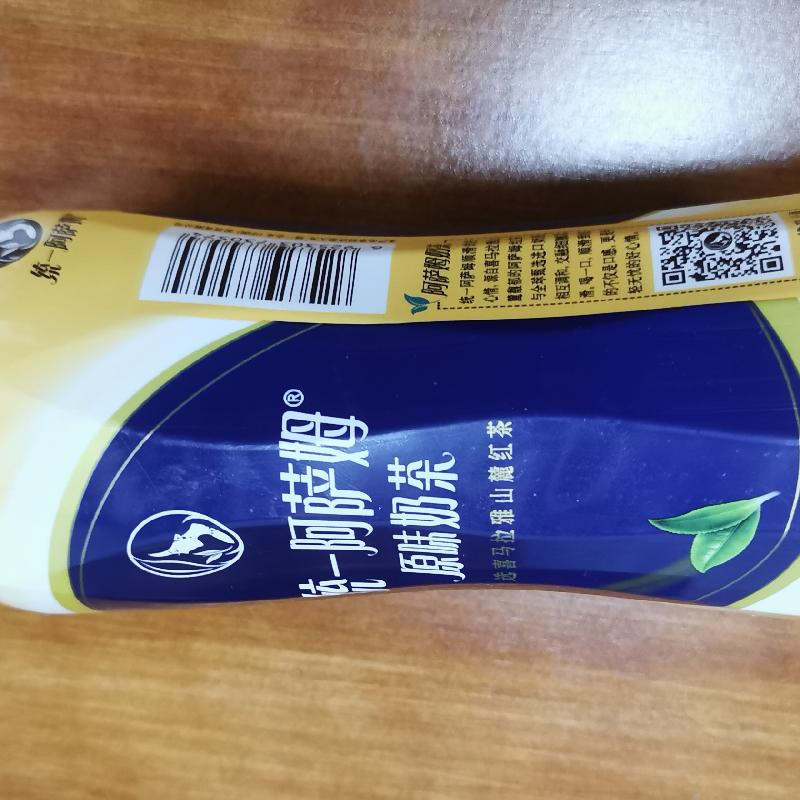bottles: (11, 183, 799, 614)
